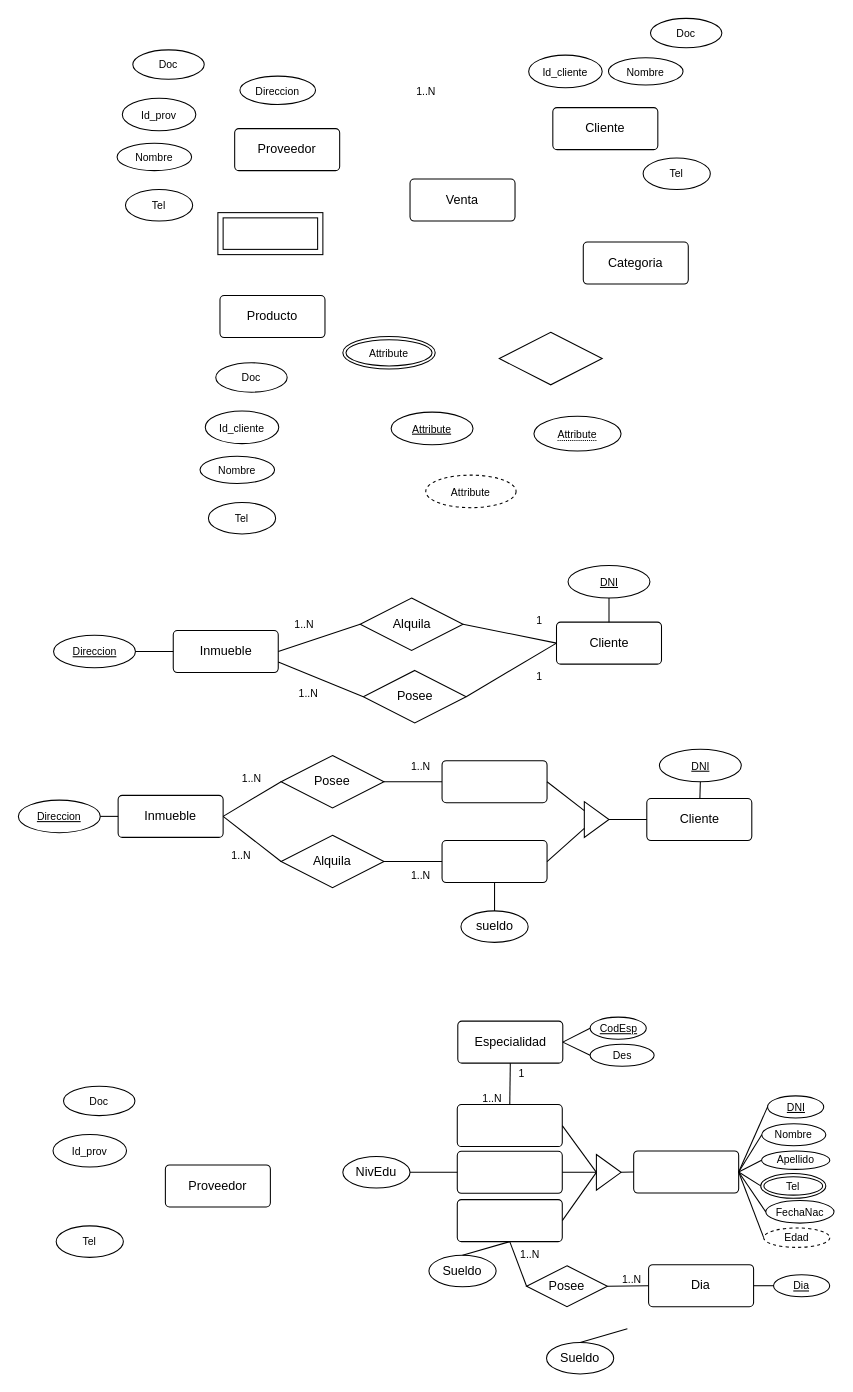
The diagram is 853 pixels wide and 1392 high, and some of its shapes have lost their labels. The shapes that lost their labels are listed below. From the top down, each one's centre as x and y in pixels, then its label:
At [270,233]: "Entity".
At [550,358]: "Relationship".
At [494,781]: "Propietario".
At [494,861]: "Inquilino".
At [509,1125]: "Medico".
At [509,1171]: "Administrativo".
At [686,1171]: "Personal".
At [509,1220]: "Enfermero".
